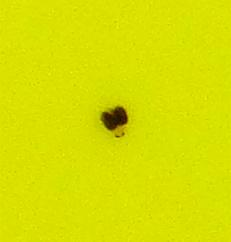Coleoptera: (100, 100, 131, 142)
